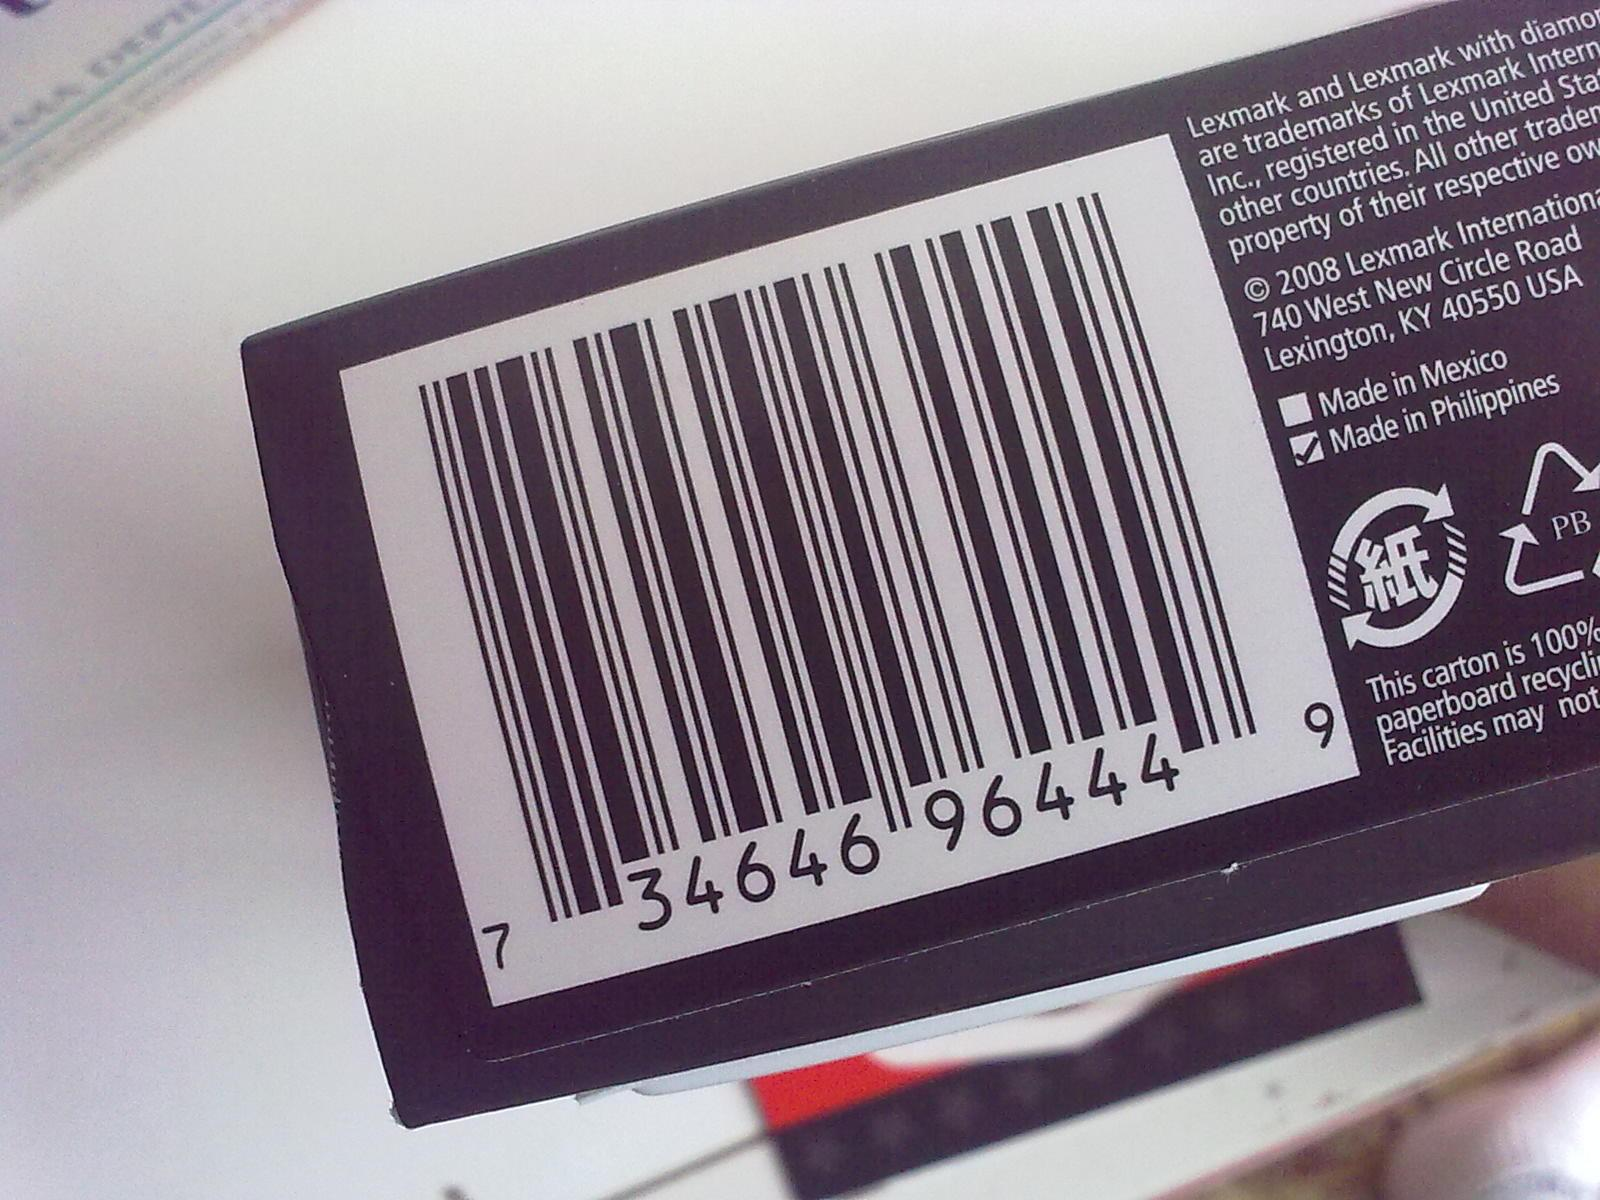barcode: (340, 132, 1357, 1006)
